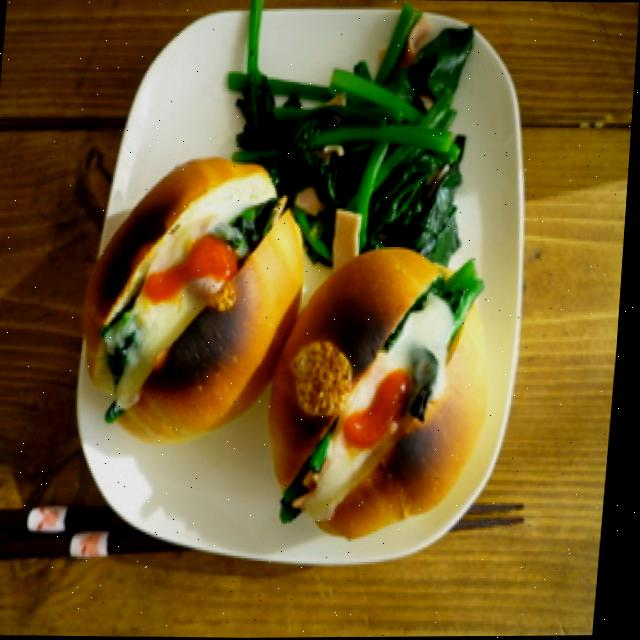蔬菜料理: (175, 0, 556, 358)
